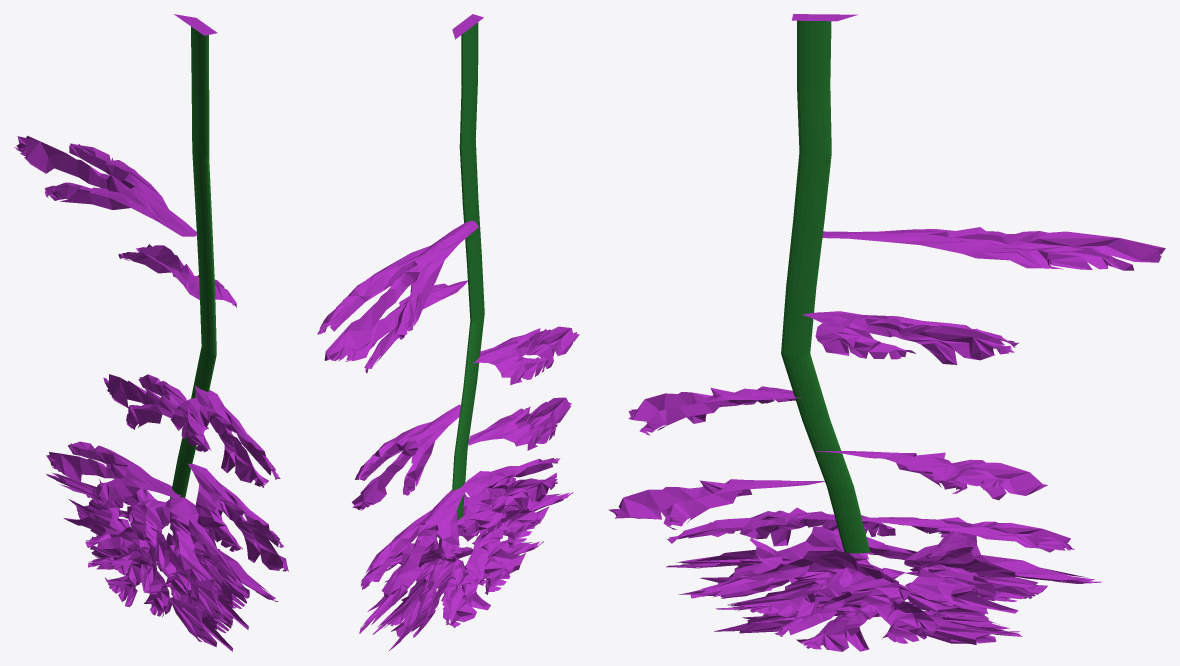
The model's file is lavanda.obj.
3 renders of one model, left to right at view 1: azimuth 30°, elevation 25°; view 2: azimuth 150°, elevation 25°; view 3: azimuth 270°, elevation 25°, orthographic. The views are drawn at different scales.
Visible parts, largest first — view 1: Indian_Paintbrush.1; view 2: Indian_Paintbrush.1; view 3: Indian_Paintbrush.1.
Part boxes in pixels (x1,y1,x2,y2): Indian_Paintbrush.1: (14, 14, 288, 651); Indian_Paintbrush.1: (317, 14, 579, 651); Indian_Paintbrush.1: (608, 14, 1165, 651).
Bounding box in the file's own units: 58.48 × 292 × 235.
